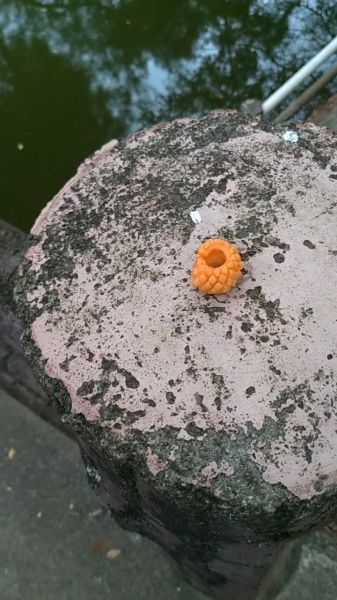eggs: (189, 231, 245, 300)
